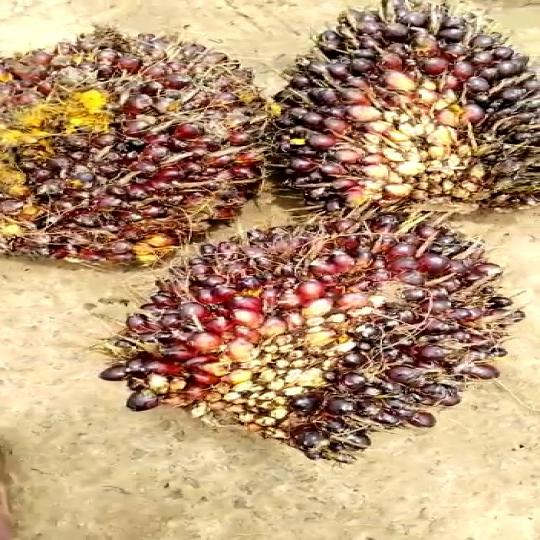kurang masak: (113, 215, 532, 466), (250, 0, 540, 238), (0, 17, 262, 271)
